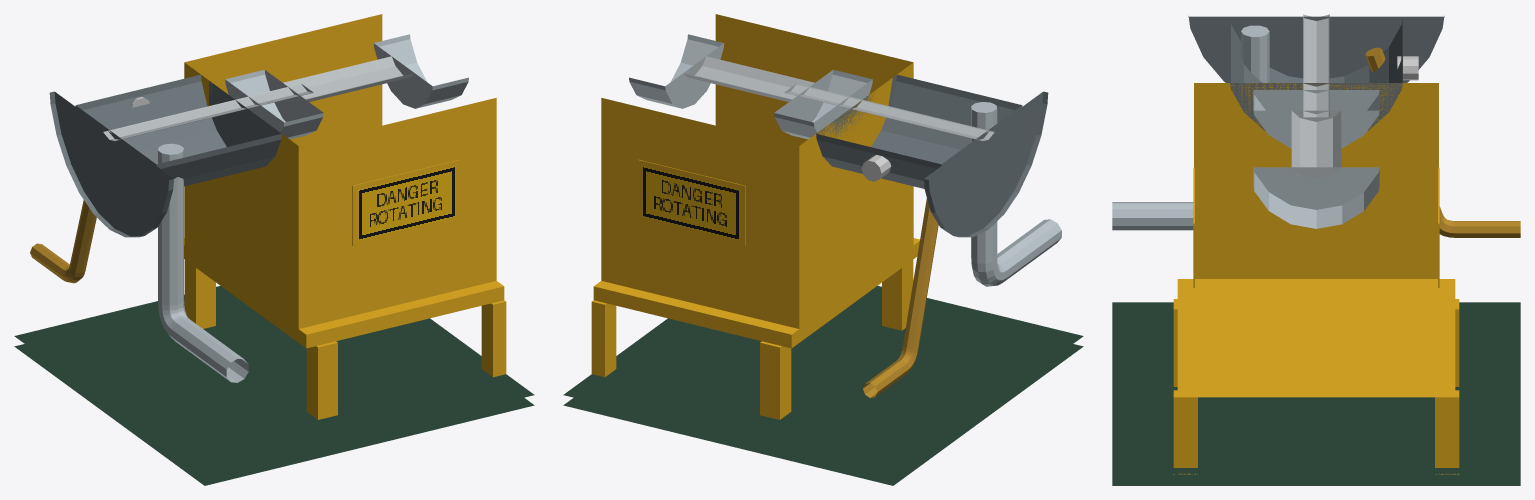
The model's file is cell_17.obj.
The picture shows the model from 3 angles, left to right: view 1: azimuth 30°, elevation 25°; view 2: azimuth 150°, elevation 25°; view 3: azimuth 270°, elevation 25°; orthographic projection. The views are drawn at different scales.
Size of the model in its own units: 1 by 0.81 by 1.
